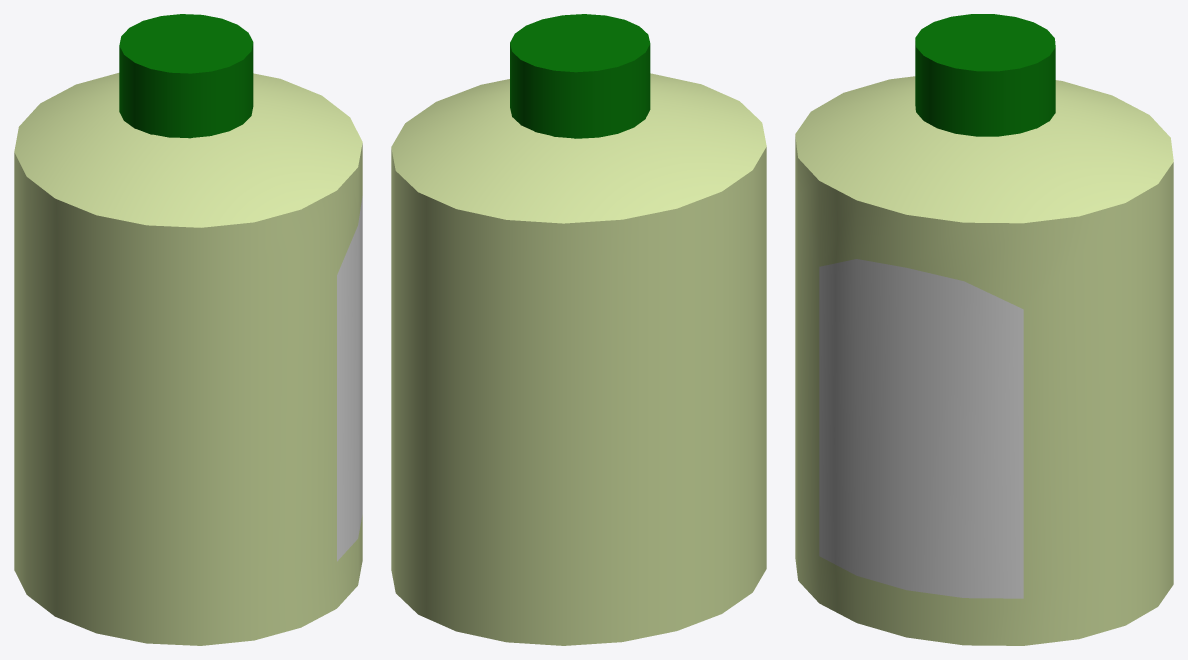
File: Product2.fbx
3 renders of one model, left to right at view 1: azimuth 30°, elevation 25°; view 2: azimuth 150°, elevation 25°; view 3: azimuth 270°, elevation 25°, orthographic.
Parts seen in each view (by area): view 1: pCylinder3; view 2: pCylinder3; view 3: pCylinder3.
Part boxes in pixels (bbox=[...]): pCylinder3: bbox=[14, 14, 362, 645]; pCylinder3: bbox=[391, 14, 766, 645]; pCylinder3: bbox=[795, 14, 1173, 645].
Bounding box in the file's own units: 0.14 × 0.2282 × 0.1485.
